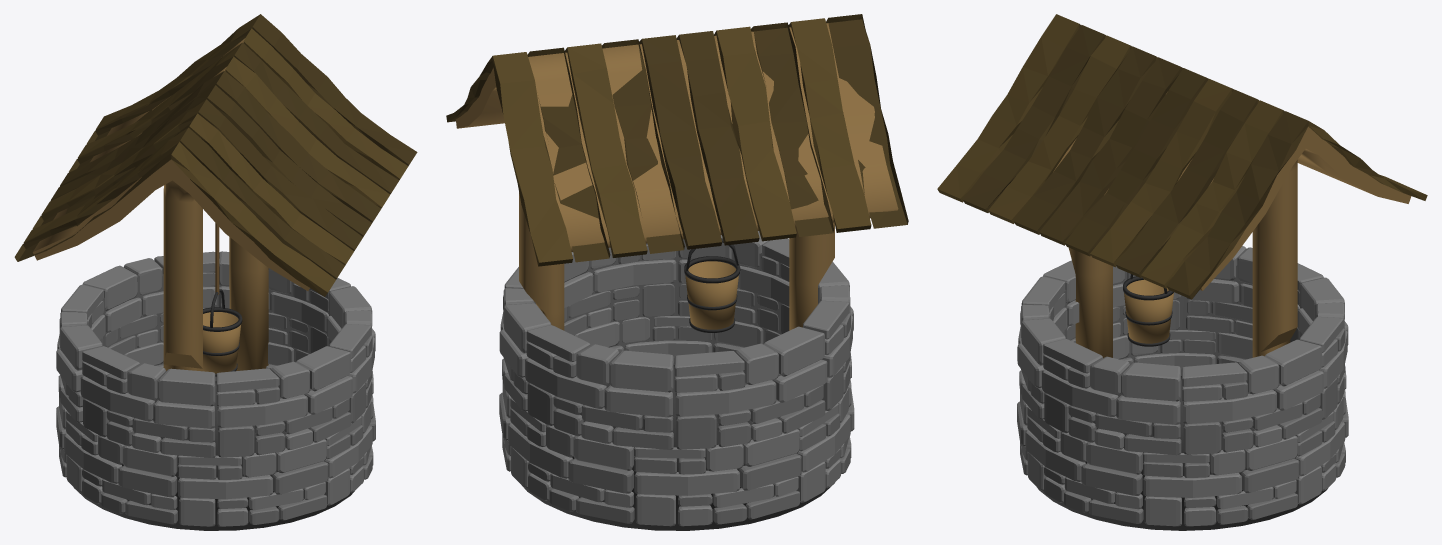
The model's file is Well.dae.
3 views of the same model, side by side, from view 1: azimuth 30°, elevation 25°; view 2: azimuth 150°, elevation 25°; view 3: azimuth 270°, elevation 25° (orthographic). The views are drawn at different scales.
Visible parts, largest first — view 1: Well; view 2: Well; view 3: Well.
Part boxes in pixels (bbox=[...]): Well: bbox=[14, 14, 417, 530]; Well: bbox=[446, 14, 908, 530]; Well: bbox=[937, 14, 1427, 530].
Bounding box in the file's own units: 3.15 × 3.15 × 2.82.
